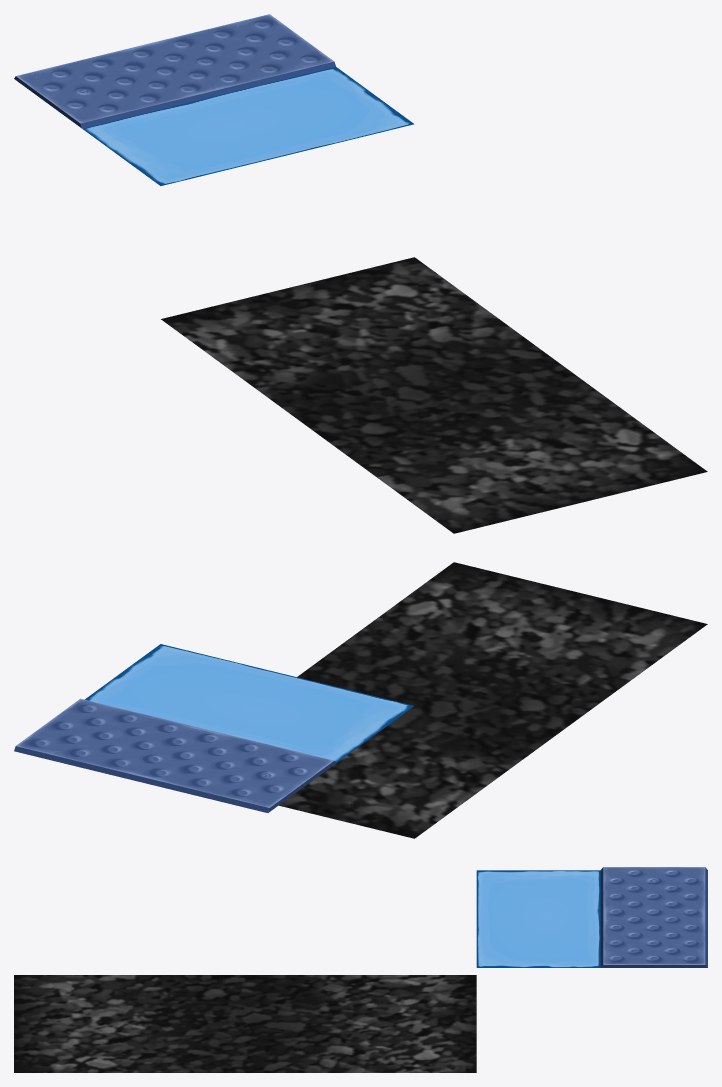
The model's file is sol_rail.fbx.
3 renders of one model, top to bottom at view 1: azimuth 30°, elevation 25°; view 2: azimuth 150°, elevation 25°; view 3: azimuth 270°, elevation 25°, orthographic. The views are drawn at different scales.
Parts seen in each view (by area): view 1: sol_rail; view 2: sol_rail; view 3: sol_rail.
Boxes of the visible parts, box(x1,y1,x2,y2) form: sol_rail: box(14, 14, 707, 533); sol_rail: box(14, 562, 707, 838); sol_rail: box(14, 867, 707, 1072).
Bounding box in the file's own units: 100 × 51.5 × 300.
